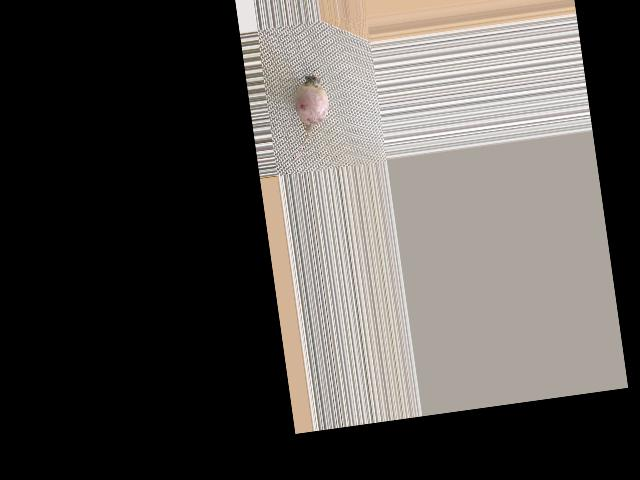beet: (277, 70, 335, 163)
